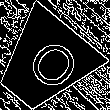O_SW: (11, 30, 78, 97)
